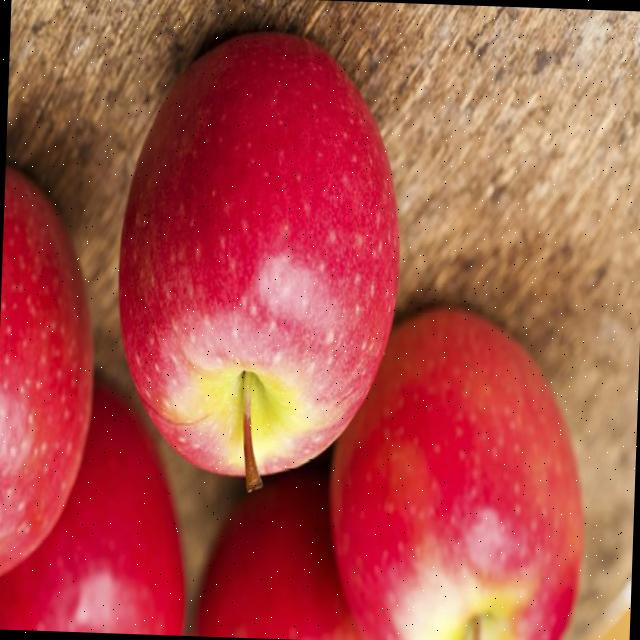Apel: (110, 26, 408, 499), (322, 300, 591, 640), (0, 380, 193, 635), (0, 164, 101, 583), (192, 465, 370, 640)
